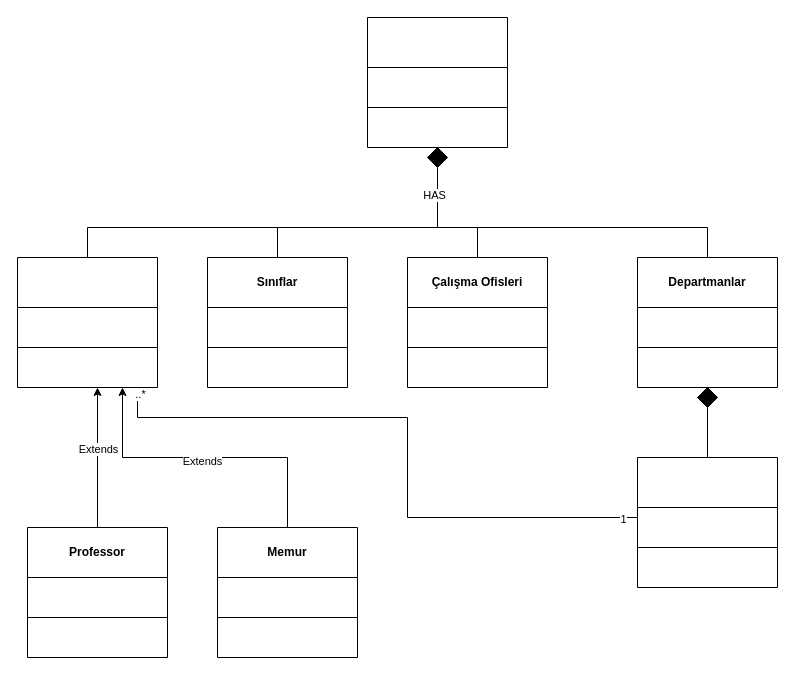
The diagram is 796 pixels wide and 675 high, and some of its shapes have lost their labels. The shapes that lost their labels are listed below. From the top down, each one's centre as x and y in pixels, then its label:
the point at 437,82: Üniversite
the point at 87,322: Çalışanlar
the point at 707,522: Ofisler
